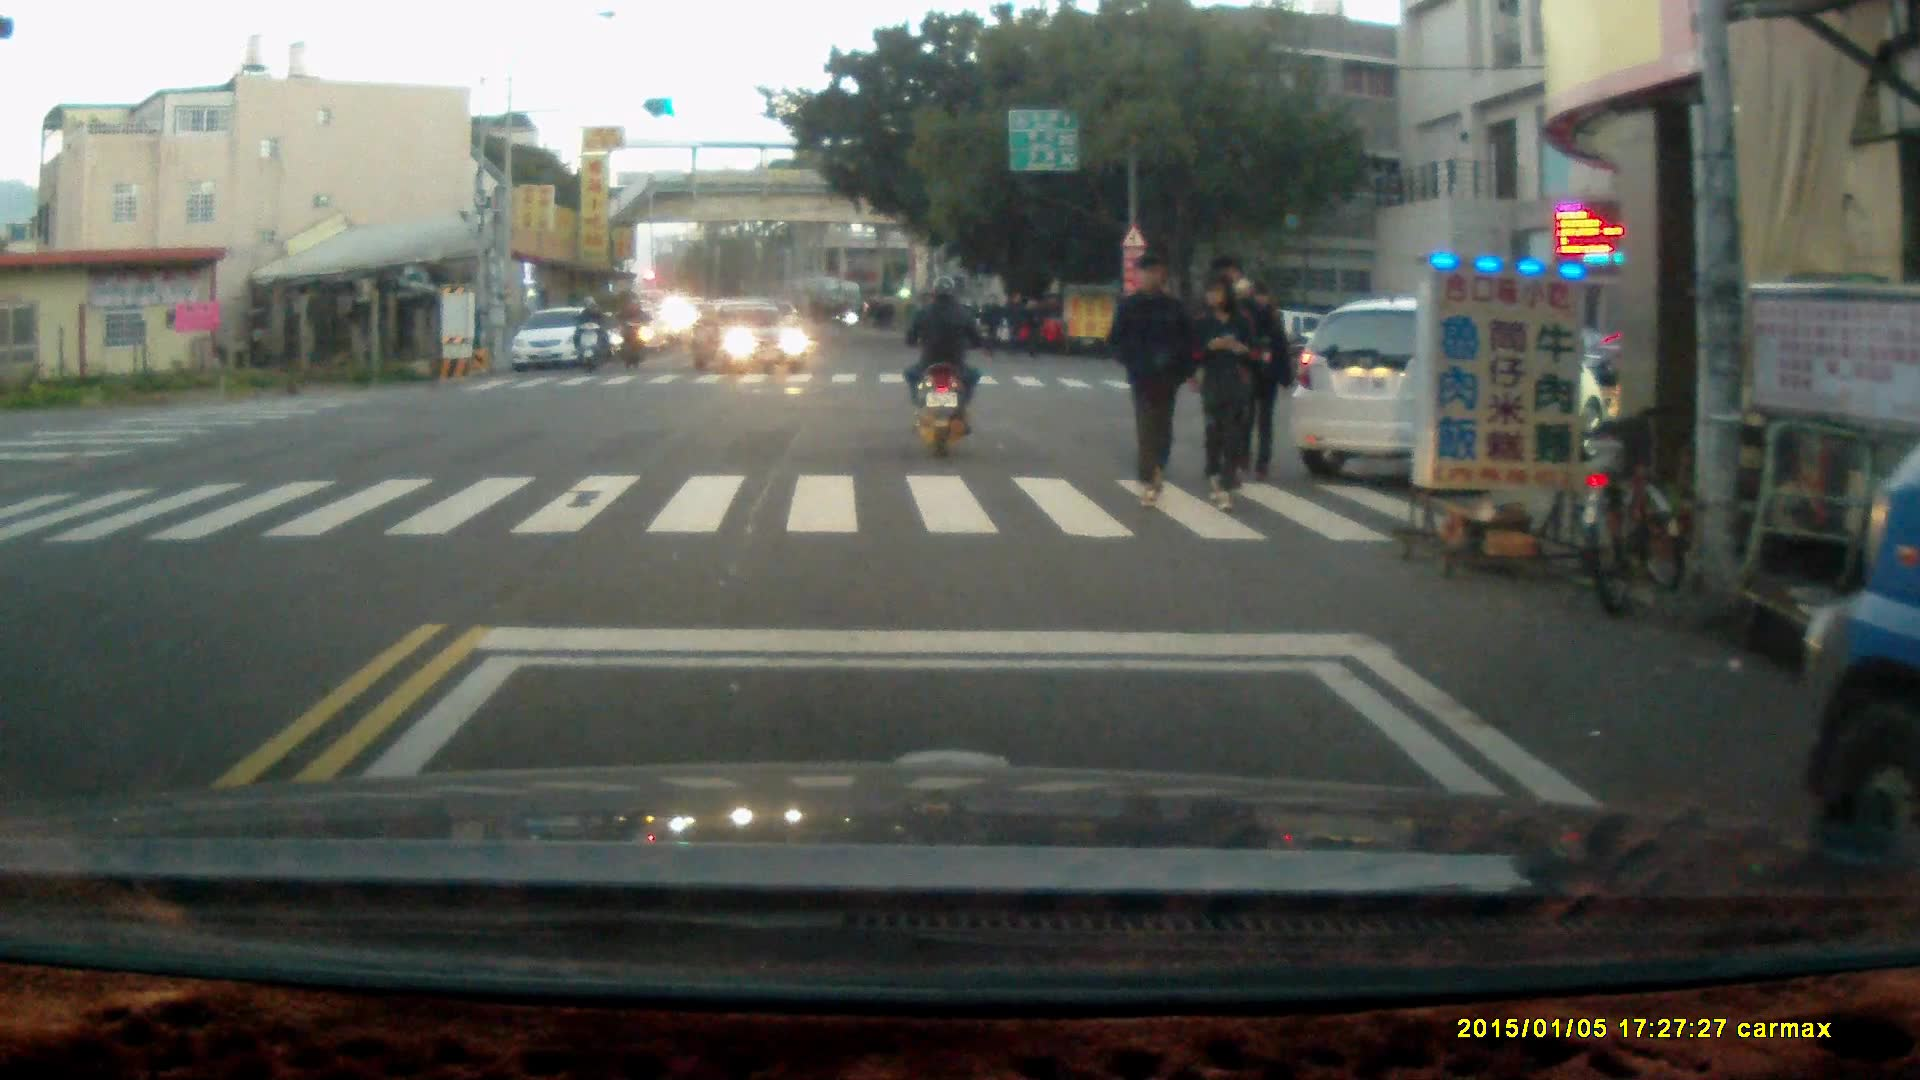pedestrian: (1102, 245, 1194, 502), (1190, 268, 1262, 512), (1002, 287, 1027, 362), (1018, 294, 1045, 361), (980, 290, 1003, 360)
rider: (903, 269, 976, 460), (617, 292, 650, 369), (574, 294, 605, 370)
vehicle: (1296, 303, 1614, 481), (1786, 476, 1920, 886), (685, 296, 817, 374), (513, 308, 606, 372)
